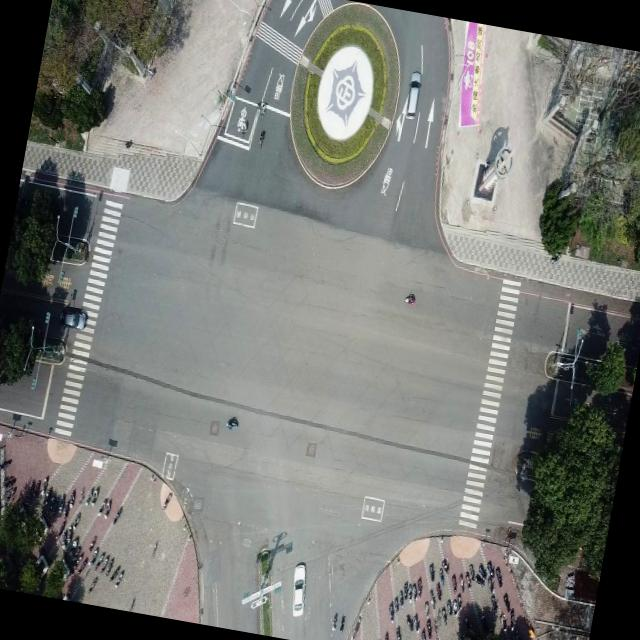bike: (398, 285, 423, 314), (220, 414, 243, 436), (256, 128, 266, 146)
car: (287, 560, 310, 616), (402, 68, 424, 118), (55, 302, 89, 334)
